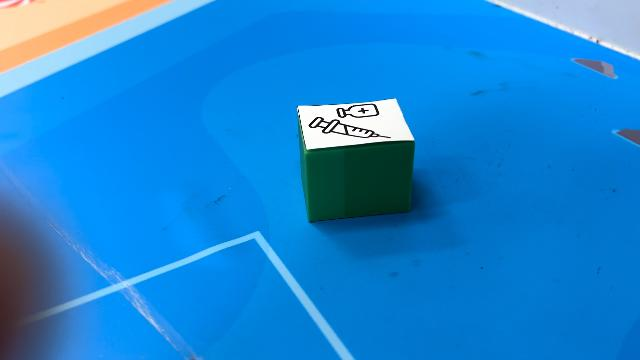syringe: (296, 98, 416, 222)
